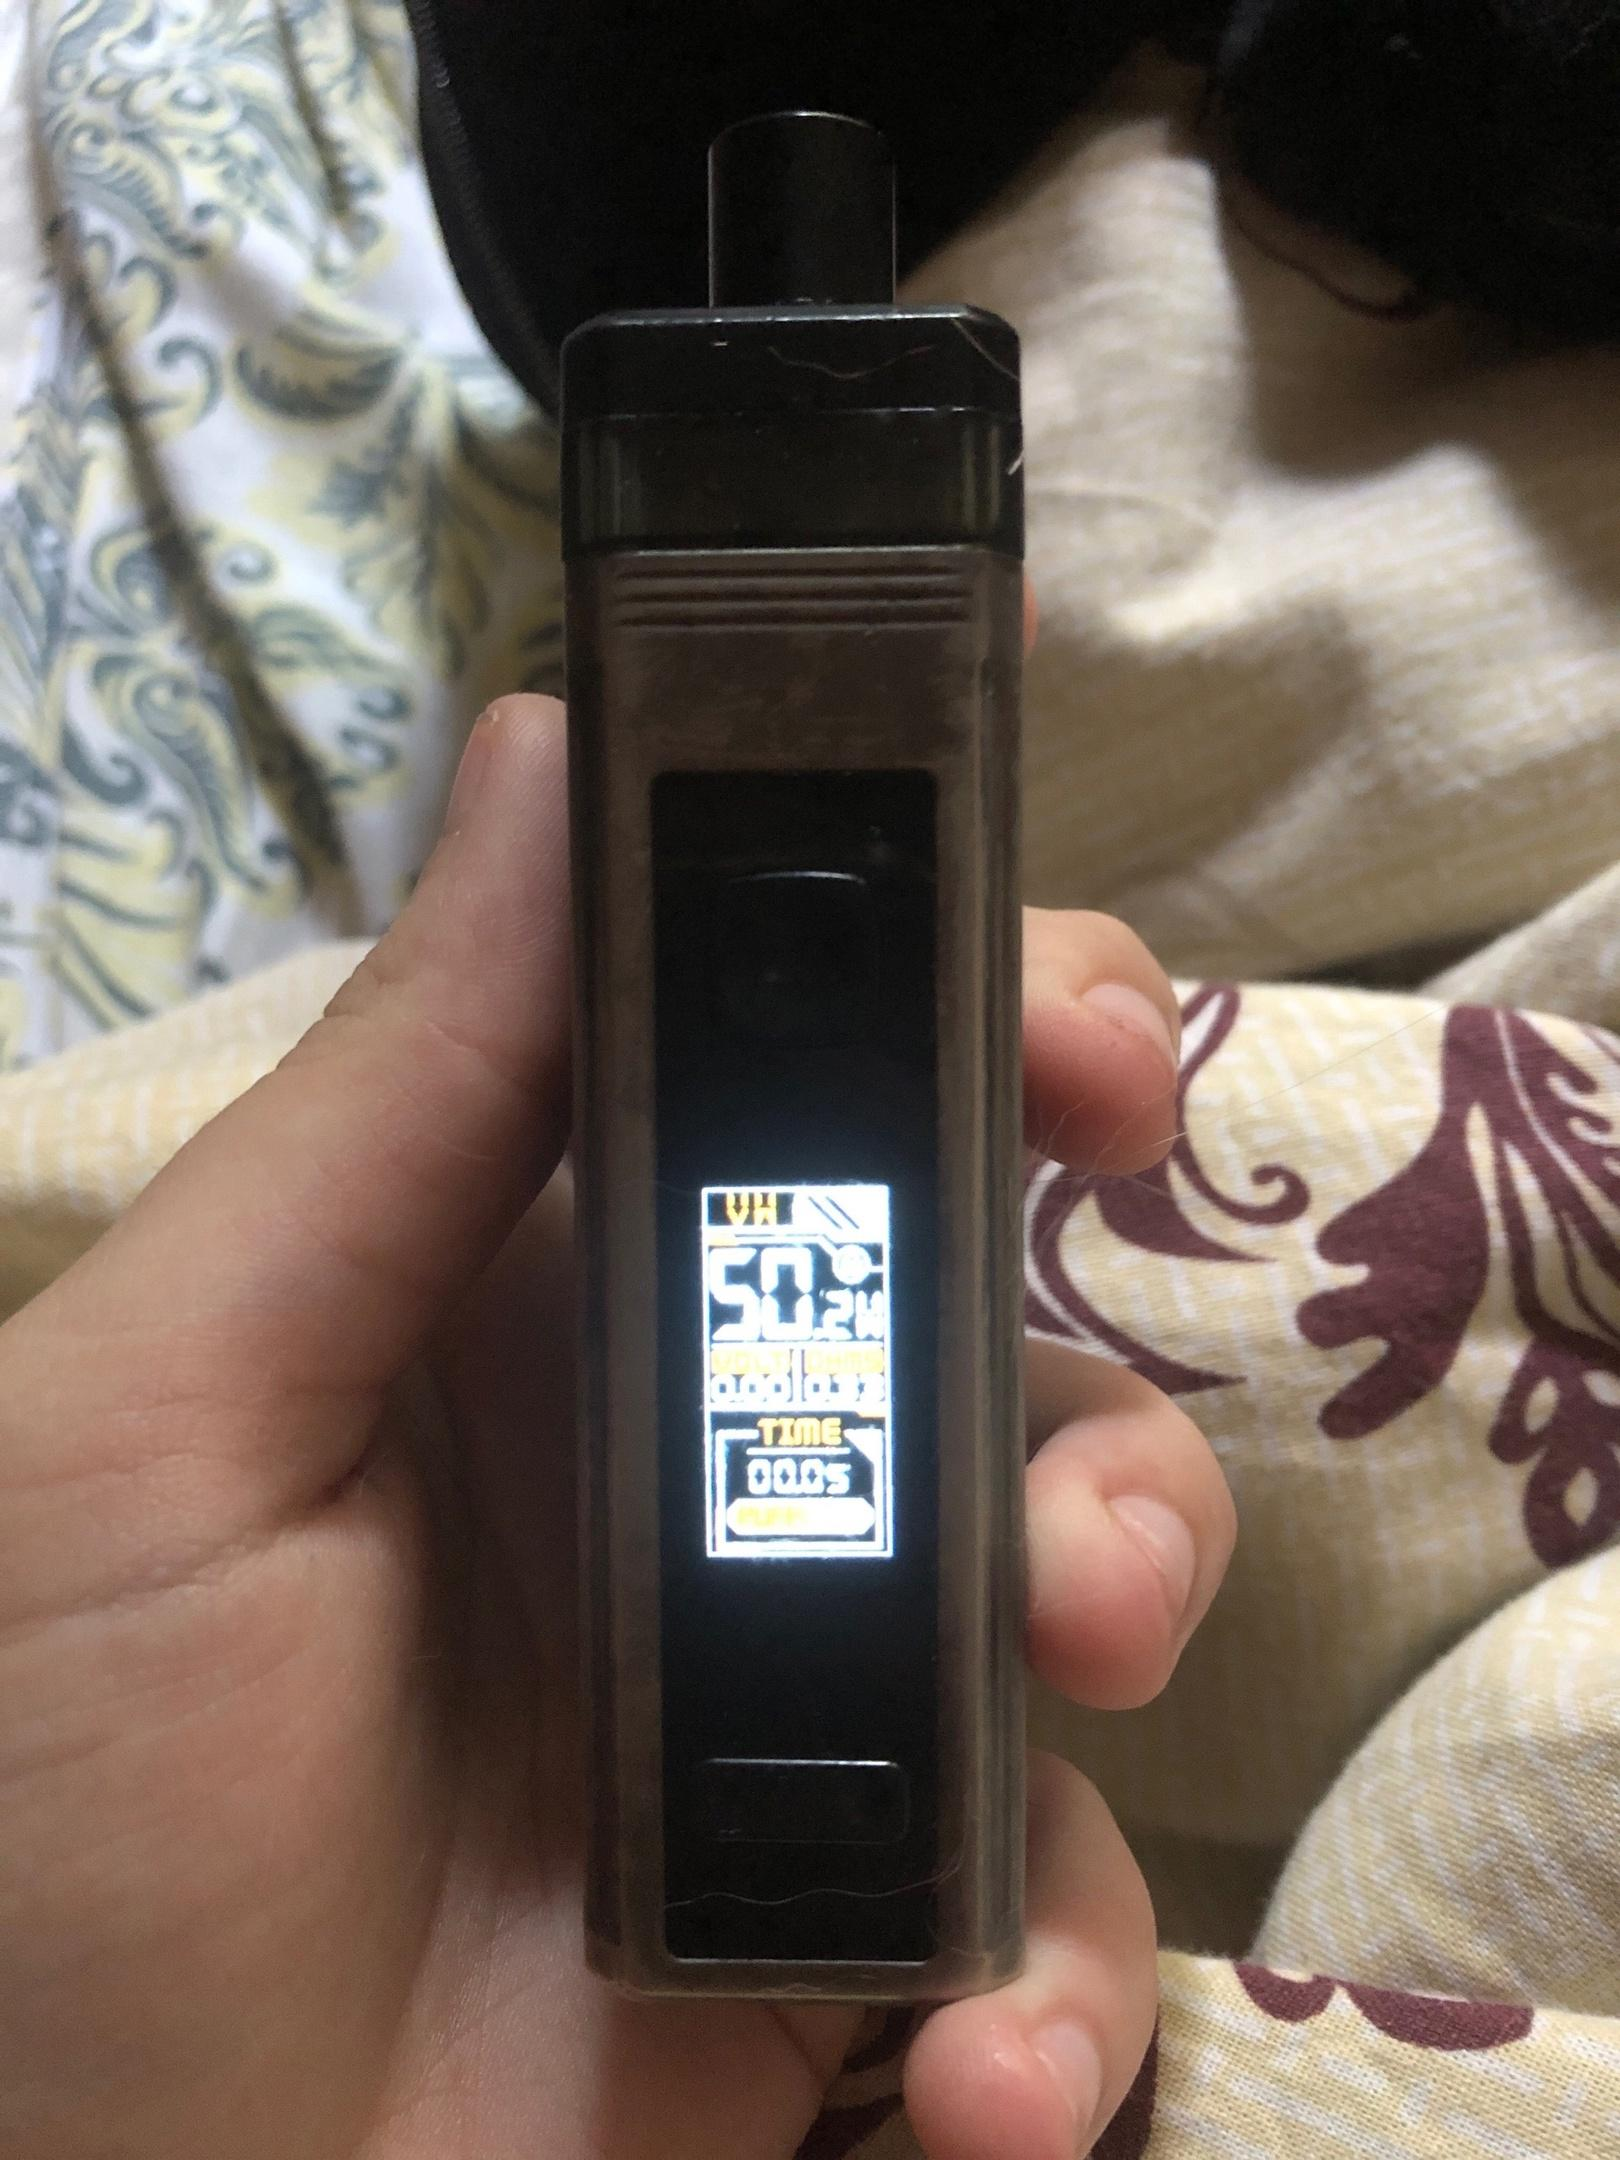Vape: (562, 112, 1023, 1997)
